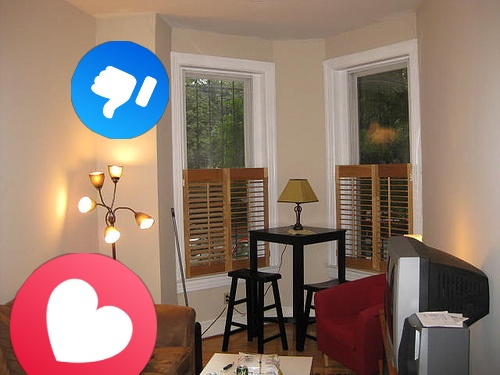like: (71, 41, 169, 139)
love: (10, 253, 157, 375)
